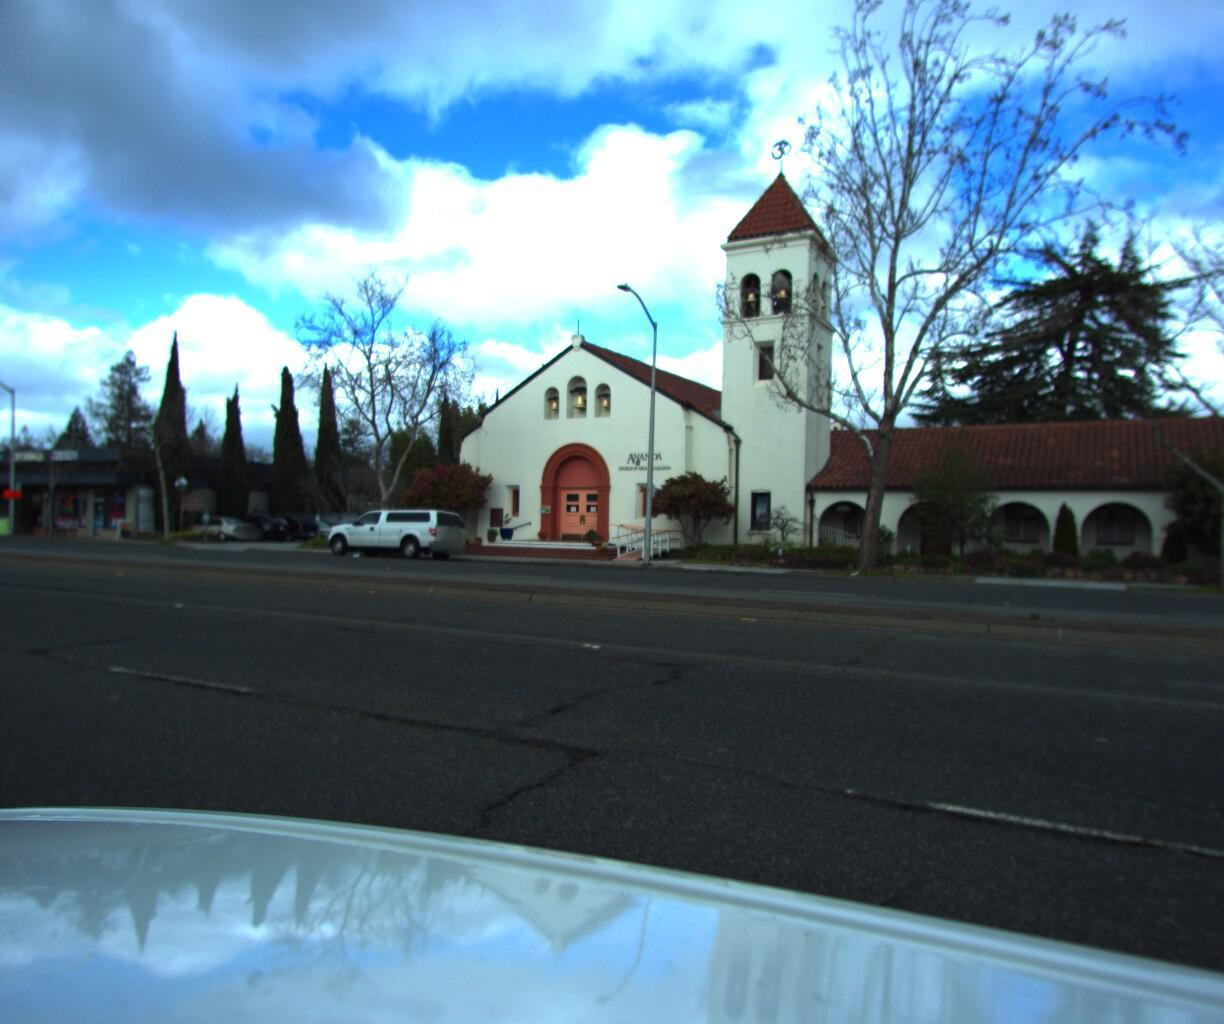bicycle: (37, 517, 70, 535)
car: (312, 502, 470, 562), (170, 510, 259, 541), (209, 507, 293, 539), (242, 508, 324, 538)
